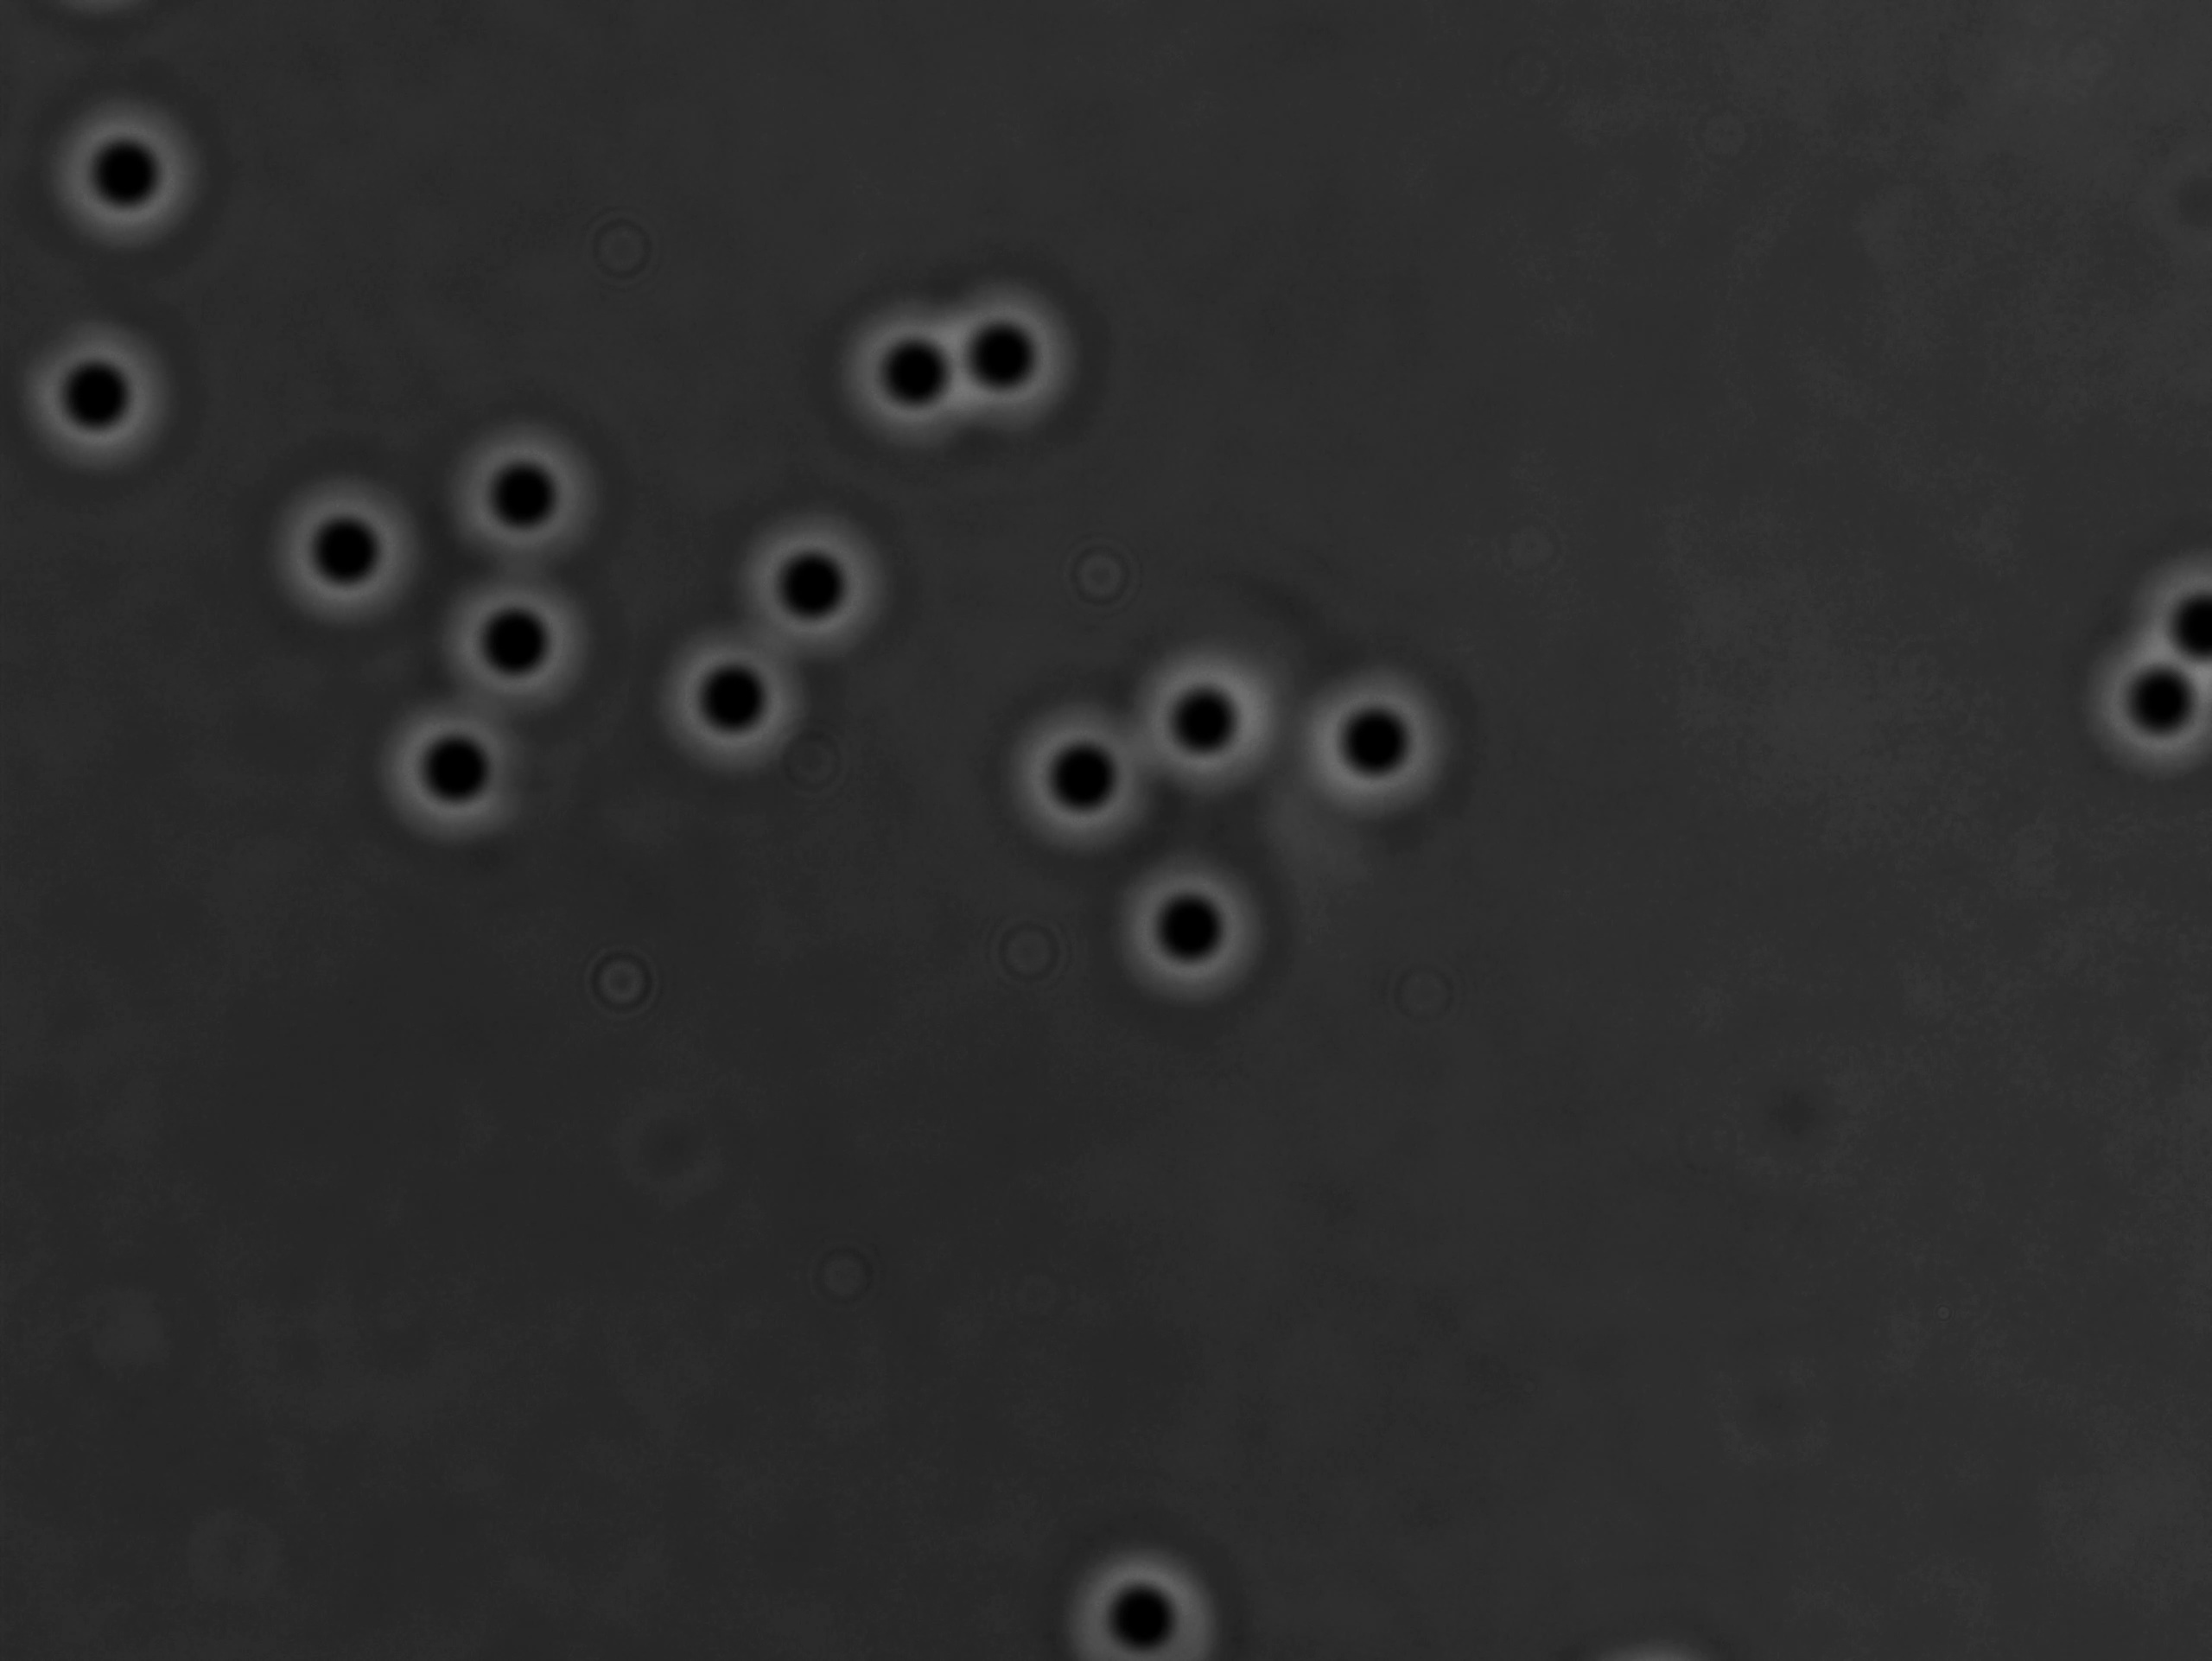depth:-80: (1280, 646, 1471, 841), (366, 684, 555, 869), (9, 302, 195, 487), (1118, 621, 1303, 808), (1104, 839, 1301, 1014), (926, 260, 1106, 445), (255, 466, 443, 642), (638, 604, 816, 789), (825, 286, 998, 468), (993, 694, 1169, 871), (420, 544, 604, 707), (736, 497, 914, 663), (448, 414, 621, 579), (37, 92, 204, 260), (2058, 611, 2212, 792), (1052, 1546, 1244, 1661)
